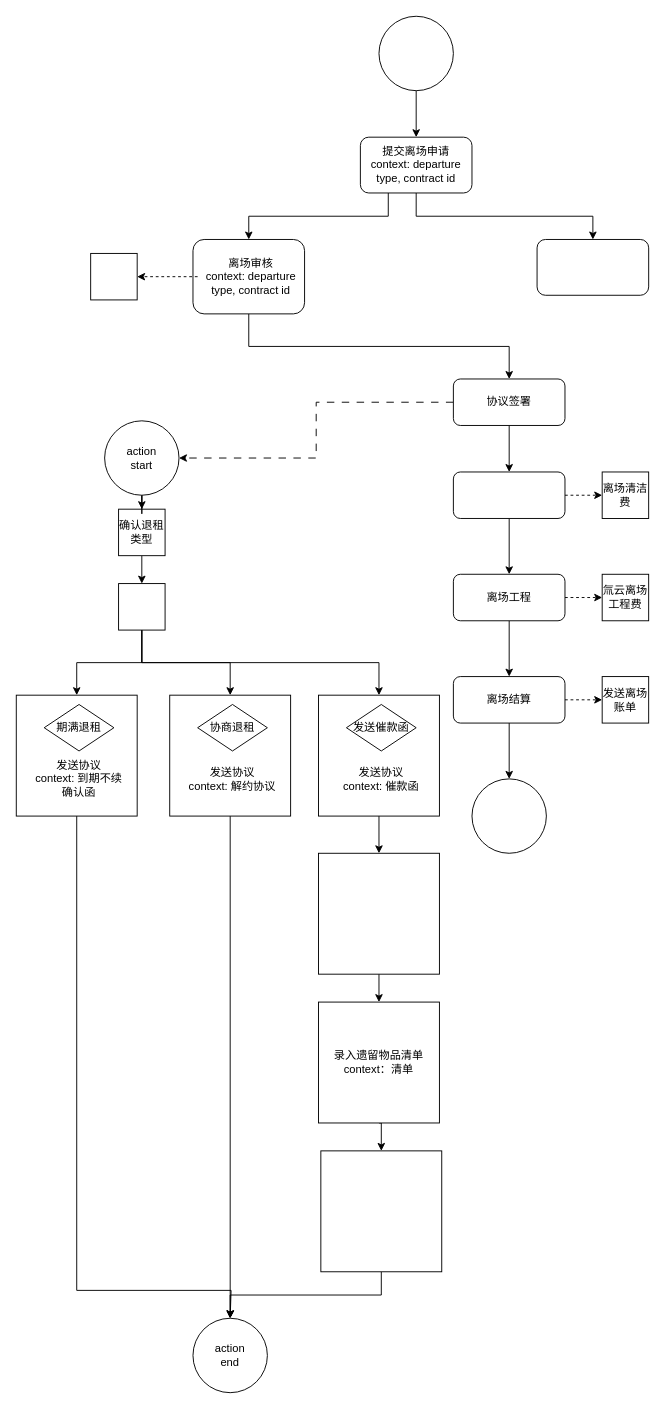
Some shapes in this 665 by 1409 pixel diagram are drawn without their labels. The box of each missing label's shape, as (x1, y1, x2, y2) in pixels:
End: (471, 778, 546, 853)
Start: (378, 15, 453, 91)
发送提前解约通知函 context：通知函: (318, 852, 439, 974)
发送遗留物品领取通知函 context：通知函: (320, 1150, 442, 1272)
离场登记: (452, 471, 565, 518)
离场账单草稿 context: departure type, contract id: (536, 239, 649, 295)
选择签署方式: (118, 583, 165, 630)
钉钉审批: (90, 252, 137, 300)
